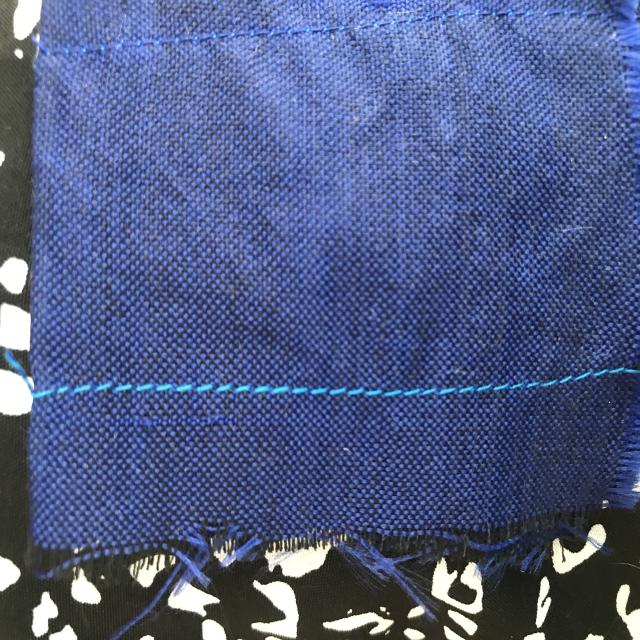good: (297, 378, 409, 411), (143, 376, 253, 403), (431, 373, 522, 400)
